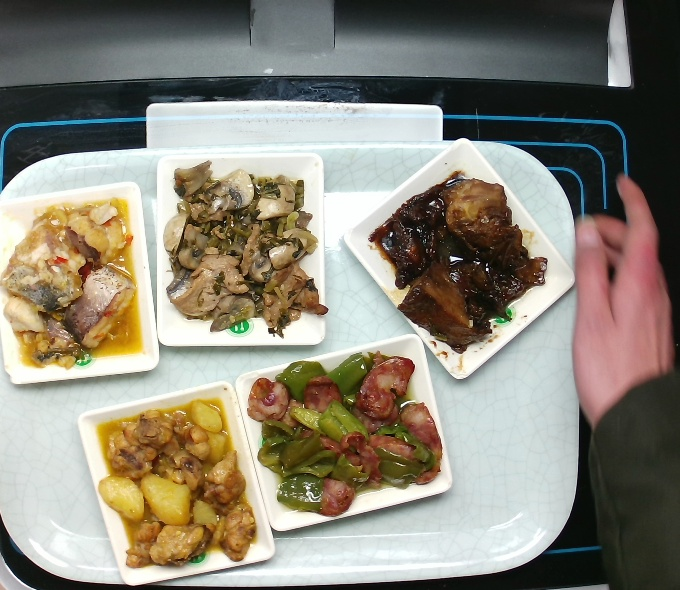wcq-DuoJiaoYuKuai: (1, 192, 148, 371)
wcq-JiangZhiYa: (366, 165, 553, 358)
wcq-MoGuRouPian: (160, 158, 332, 339)
wcq-QingJiaoXiangChang: (242, 347, 448, 521)
wcq-TuDouJiKuai: (92, 395, 261, 574)
